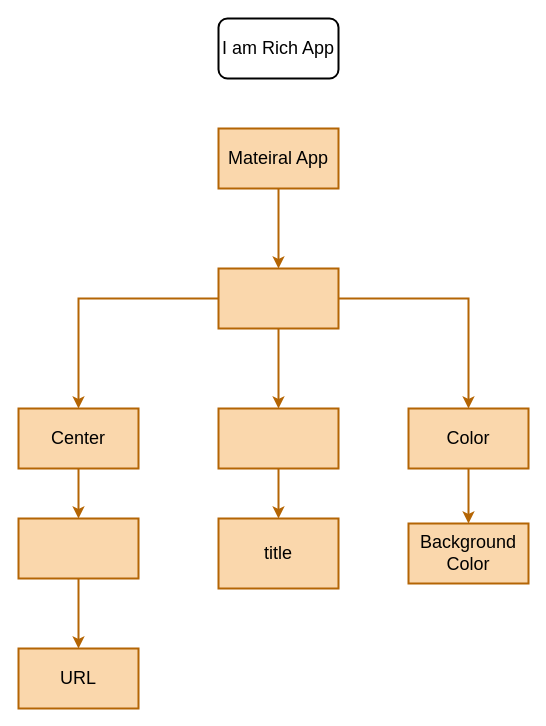
This 546x726 diagram has some shape labels left out. Each missing label, with the centre of its shape:
"Appbar" belongs at (x=278, y=438).
"Image" belongs at (x=78, y=548).
"Scaffold" belongs at (x=278, y=298).
